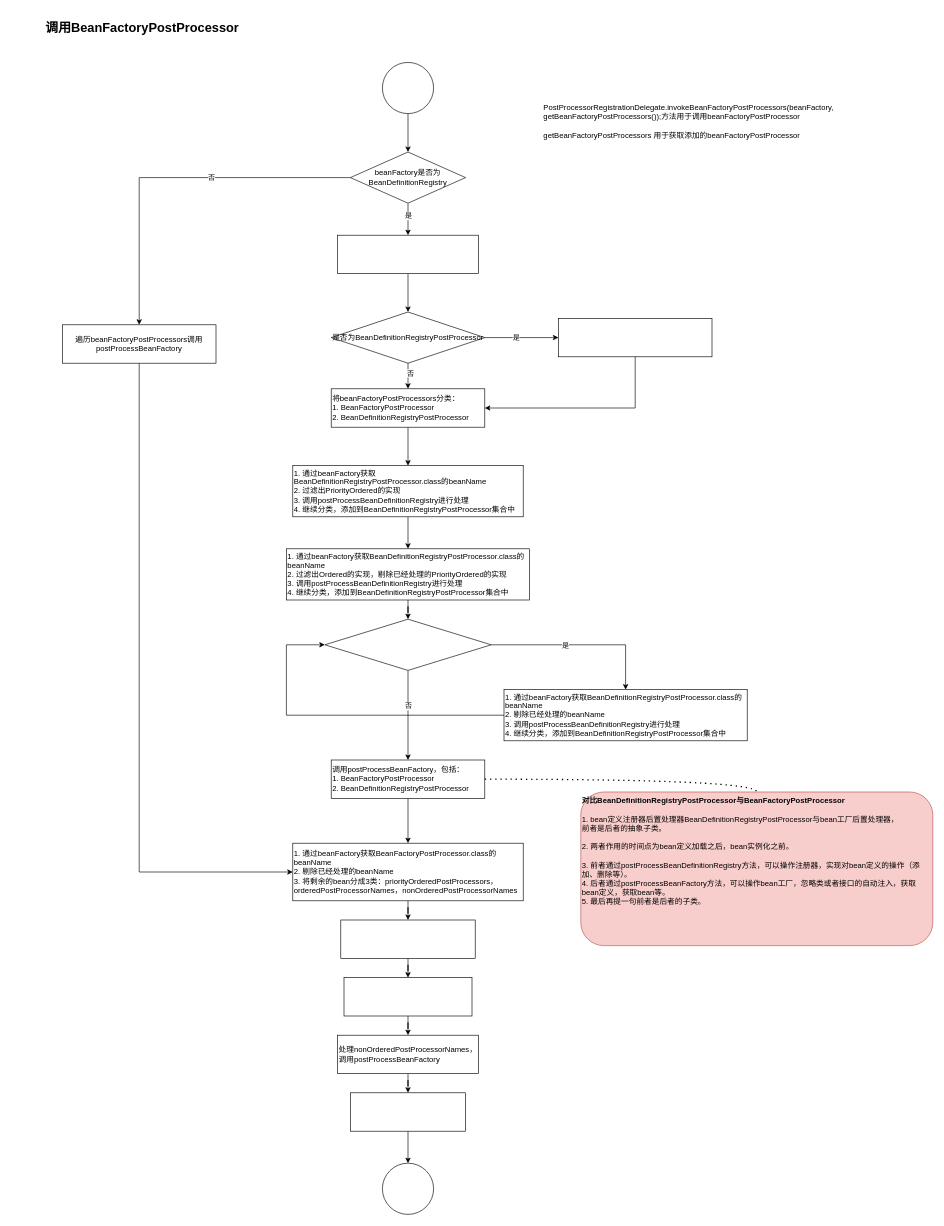
Image size: 944x1226. Some labels were removed from this diagram. Here are the shapes that lost their labels. From the top down, the box of each, then its label:
(337, 235, 478, 274): 创建两个集合用于beanFactoryPostProcessors分类
(558, 318, 712, 357): 调用postProcessBeanDefinitionRegistry方法， 对BeanDefinition进行后置处理。
(324, 619, 491, 670): 循环检测是否还有未处理的 BeanDefinitionRegistryPostProcessor
(340, 919, 475, 958): 处理priorityOrderedPostProcessors， 调用postProcessBeanFactory
(343, 977, 472, 1016): 处理orderedPostProcessorNames， 调用postProcessBeanFactory
(350, 1092, 466, 1131): 清除合并后的 Bean 定义缓存
